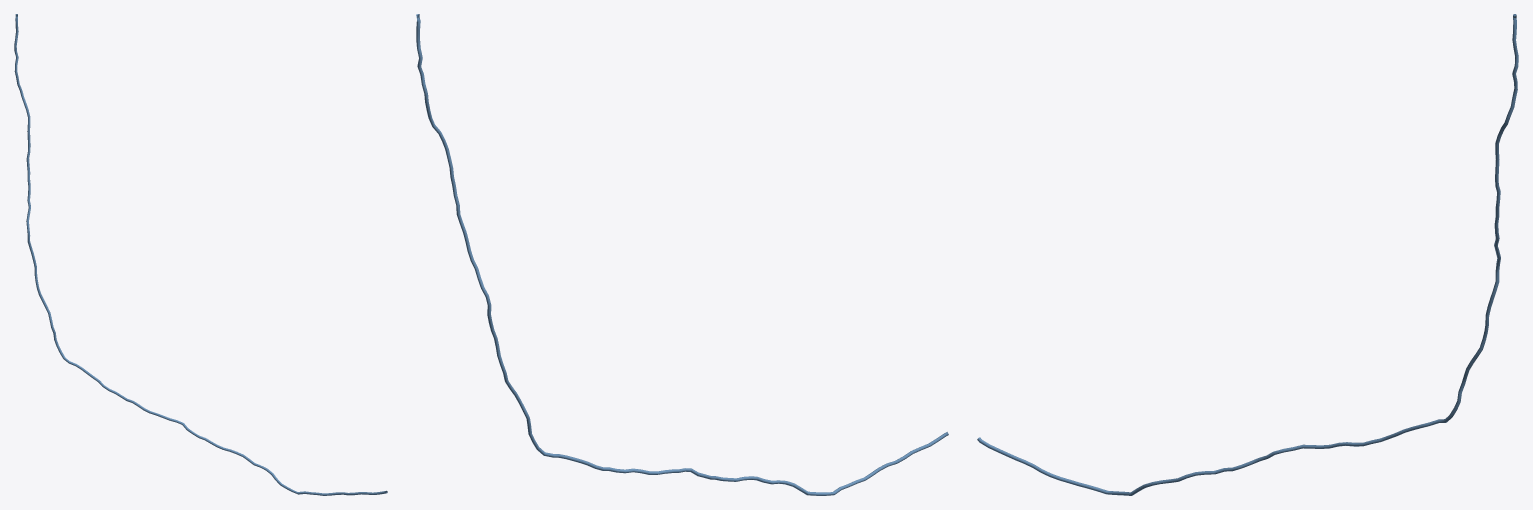
Rendered from sweep182.fbx.
3 renders of one model, left to right at view 1: azimuth 90°, elevation 25°; view 2: azimuth 150°, elevation 25°; view 3: azimuth 270°, elevation 25°, orthographic. The views are drawn at different scales.
Parts seen in each view (by area): view 1: sweep182; view 2: sweep182; view 3: sweep182.
Boxes of the visible parts, left/top/right/bottom form: sweep182: left=14, top=14, right=387, bottom=495; sweep182: left=416, top=14, right=948, bottom=495; sweep182: left=977, top=14, right=1518, bottom=495.
Size of the model in its own units: 1.65 by 3.34 by 2.78.
